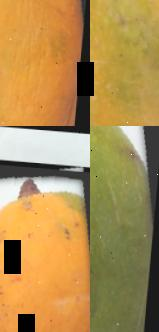PartiallyRipe: (90, 0, 159, 126)
Ripe: (0, 161, 90, 332), (0, 0, 90, 126)
Unripe: (90, 126, 159, 332)
